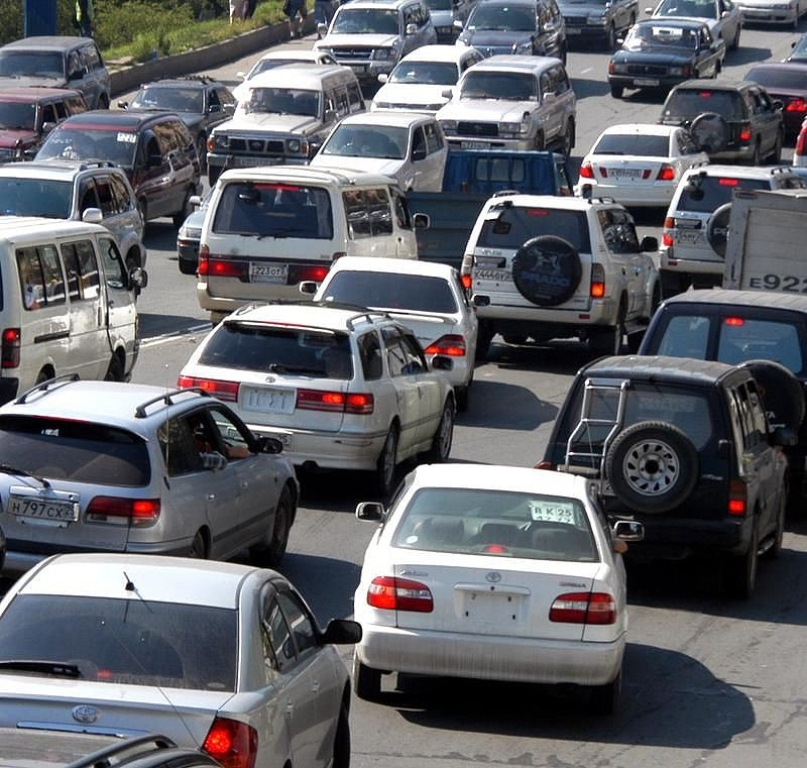Car: (0, 553, 361, 768), (353, 463, 643, 713), (538, 354, 799, 598), (0, 379, 300, 573), (177, 303, 456, 495), (638, 289, 807, 513), (197, 166, 428, 321), (461, 194, 660, 356), (298, 256, 490, 410), (0, 216, 148, 405), (658, 165, 807, 296), (408, 150, 573, 268), (34, 110, 201, 226), (207, 65, 366, 182), (0, 161, 146, 270), (437, 54, 577, 158), (575, 123, 708, 210), (308, 111, 447, 192), (125, 76, 238, 169), (659, 81, 784, 165), (310, 0, 437, 82), (0, 726, 224, 768), (607, 19, 726, 98), (723, 191, 807, 295), (0, 36, 111, 109), (370, 45, 482, 114), (456, 0, 567, 66), (0, 87, 88, 164), (232, 49, 337, 102), (744, 62, 807, 144), (644, 0, 742, 51), (557, 0, 639, 49), (177, 189, 213, 275), (424, 0, 476, 43), (735, 0, 807, 28), (782, 33, 807, 67), (793, 118, 807, 170), (794, 168, 807, 179)
